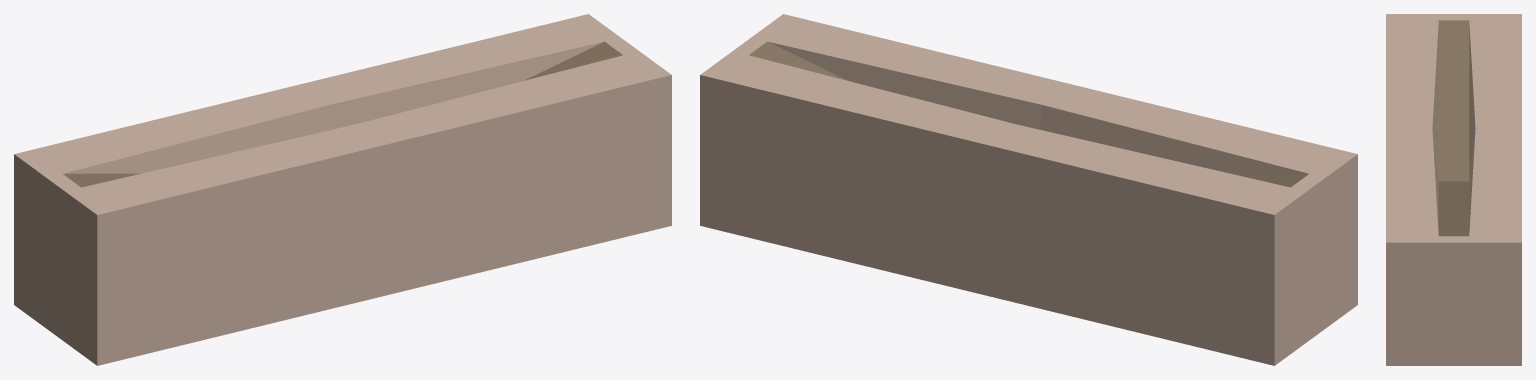
The model's file is SwingingCutter_GroundCut.fbx.
The picture shows the model from 3 angles, left to right: view 1: azimuth 30°, elevation 25°; view 2: azimuth 150°, elevation 25°; view 3: azimuth 270°, elevation 25°; orthographic projection. The views are drawn at different scales.
Visible parts, largest first — view 1: Cube.004; view 2: Cube.004; view 3: Cube.004.
Boxes of the visible parts, x1,y1,x2,y2 form: Cube.004: [14, 14, 671, 365]; Cube.004: [700, 14, 1357, 365]; Cube.004: [1386, 14, 1521, 365].
Bounding box in the file's own units: 85.6 × 21.49 × 21.49.
